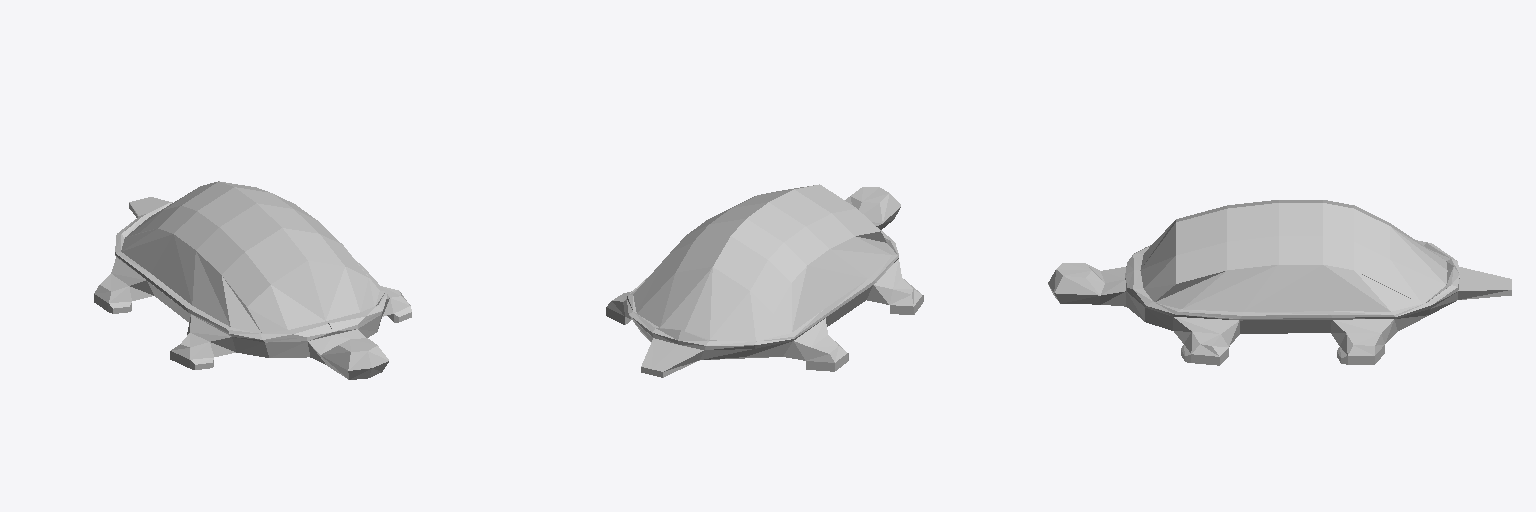
Rendered from turtle.obj.
The picture shows the model from 3 angles: view 1: azimuth 30°, elevation 25°; view 2: azimuth 150°, elevation 25°; view 3: azimuth 270°, elevation 25°; orthographic projection.
Parts seen in each view (by area): view 1: turtle; view 2: turtle; view 3: turtle.
Part boxes in pixels (x1,y1,x2,y2): turtle: (94,181,411,379); turtle: (606,184,923,377); turtle: (1048,200,1511,365).
Bounding box in the file's own units: 985 × 432 × 1709.